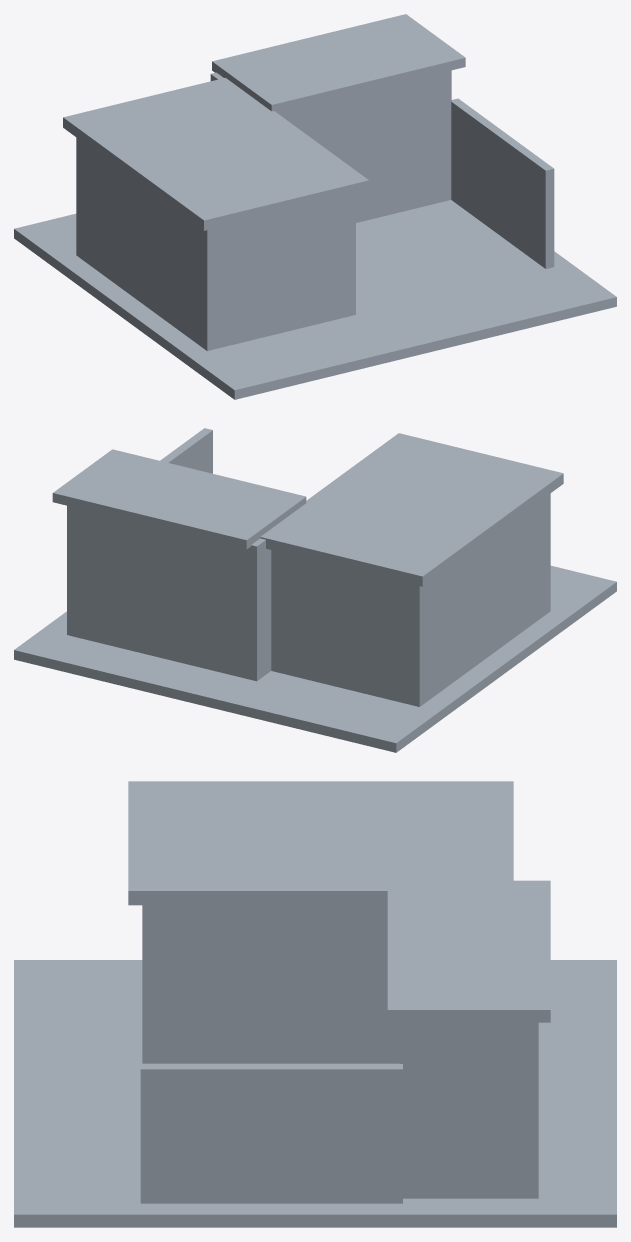
The model's file is courtyard.glb.
3 renders of one model, top to bottom at view 1: azimuth 30°, elevation 25°; view 2: azimuth 150°, elevation 25°; view 3: azimuth 270°, elevation 25°, orthographic. The views are drawn at different scales.
Visible parts, largest first — view 1: courtyard-stone-1, courtyard-plaster-2, courtyard-stone-4, courtyard-cedar-3, courtyard-stone-5, courtyard-plaster-6; view 2: courtyard-plaster-2, courtyard-cedar-3, courtyard-stone-4, courtyard-stone-1, courtyard-stone-5, courtyard-plaster-6; view 3: courtyard-stone-1, courtyard-stone-4, courtyard-plaster-2, courtyard-plaster-6, courtyard-cedar-3, courtyard-stone-5.
Part boxes in pixels (bbox=[...]): courtyard-stone-1: bbox=[14, 200, 616, 399]; courtyard-plaster-2: bbox=[76, 137, 355, 350]; courtyard-stone-4: bbox=[63, 77, 368, 230]; courtyard-cedar-3: bbox=[210, 70, 451, 222]; courtyard-stone-5: bbox=[212, 14, 465, 112]; courtyard-plaster-6: bbox=[451, 98, 554, 268]; courtyard-plaster-2: bbox=[271, 493, 550, 706]; courtyard-cedar-3: bbox=[67, 505, 271, 681]; courtyard-stone-4: bbox=[260, 433, 563, 586]; courtyard-stone-1: bbox=[14, 565, 616, 752]; courtyard-stone-5: bbox=[52, 449, 306, 549]; courtyard-plaster-6: bbox=[160, 428, 212, 473]; courtyard-stone-1: bbox=[14, 960, 616, 1227]; courtyard-stone-4: bbox=[128, 781, 513, 905]; courtyard-plaster-2: bbox=[142, 905, 399, 1063]; courtyard-plaster-6: bbox=[140, 1063, 402, 1203]; courtyard-cedar-3: bbox=[399, 1022, 538, 1198]; courtyard-stone-5: bbox=[387, 880, 550, 1022].
Size of the model in its own units: 10.8 by 4.12 by 10.8.
